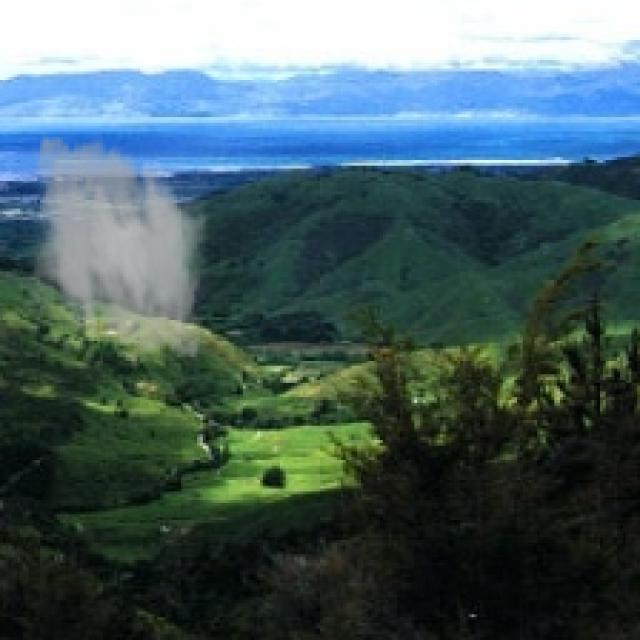Smoke: (17, 125, 217, 368)
